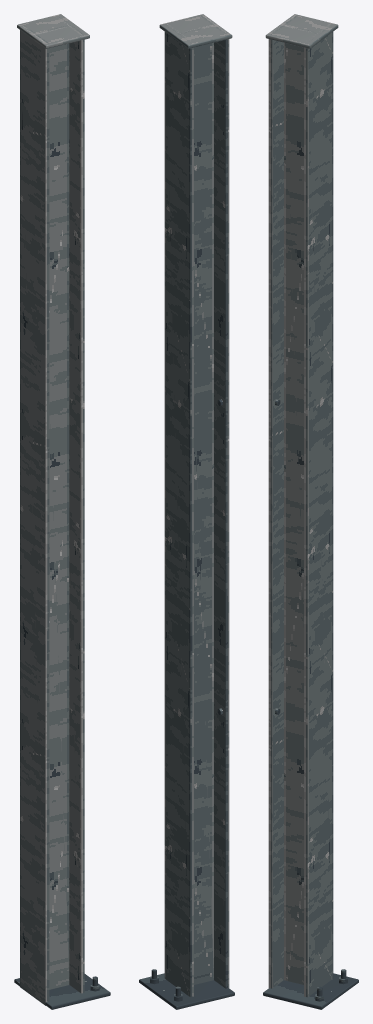
File: gk_column.glb
The picture shows the model from 3 angles, left to right: view 1: azimuth 30°, elevation 25°; view 2: azimuth 210°, elevation 25°; view 3: azimuth 330°, elevation 25°; orthographic projection.
Parts seen in each view (by area): view 1: mesh; view 2: mesh; view 3: mesh.
Boxes of the visible parts, box(x1,y1,x2,y2) form: mesh: box(14, 14, 110, 1009); mesh: box(139, 14, 234, 1009); mesh: box(263, 14, 358, 1009).
Bounding box in the file's own units: 0.2051 × 3.1 × 0.2199.
1 material, 1 textured.
